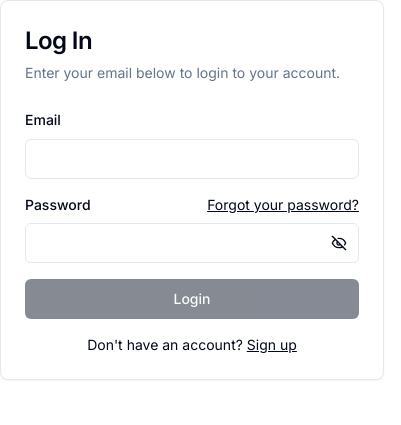
Test case: Login Form › displays a message if the password is empty
The image size is (401, 425).
Click the password field labelled "Password": (192, 243) [25,223,359,263]
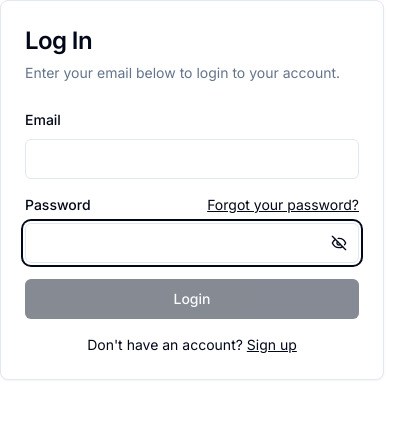
Press Tab
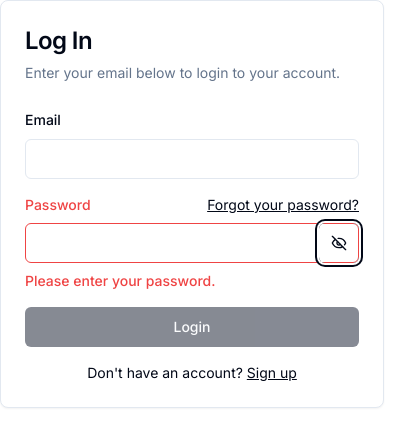
Expected: the text "Please enter your password." is shown, [25,272,216,289]
